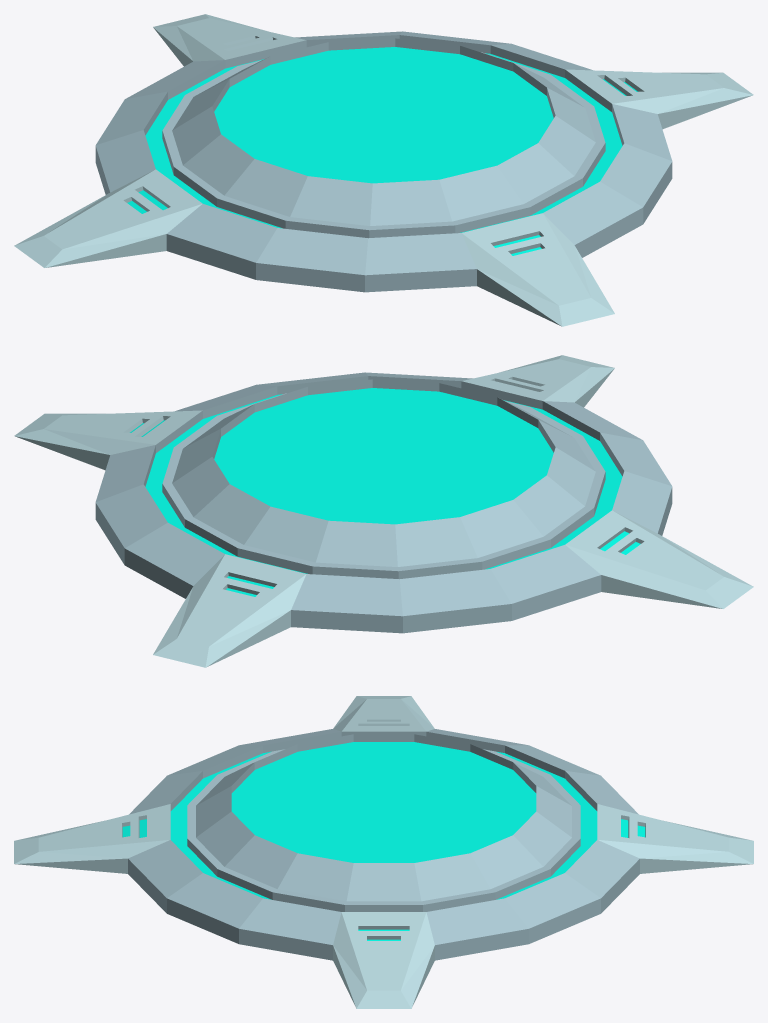
Rendered from teleport pad.fbx.
3 renders of one model, top to bottom at view 1: azimuth 30°, elevation 25°; view 2: azimuth 150°, elevation 25°; view 3: azimuth 270°, elevation 25°, orthographic. The views are drawn at different scales.
Parts seen in each view (by area): view 1: teleport pad; view 2: teleport pad; view 3: teleport pad.
Boxes of the visible parts, left/top/right/bottom form: teleport pad: left=14, top=14, right=753, bottom=326; teleport pad: left=14, top=355, right=753, bottom=667; teleport pad: left=14, top=696, right=753, bottom=1008.
Size of the model in its own units: 86.7 by 6.96 by 86.7.
